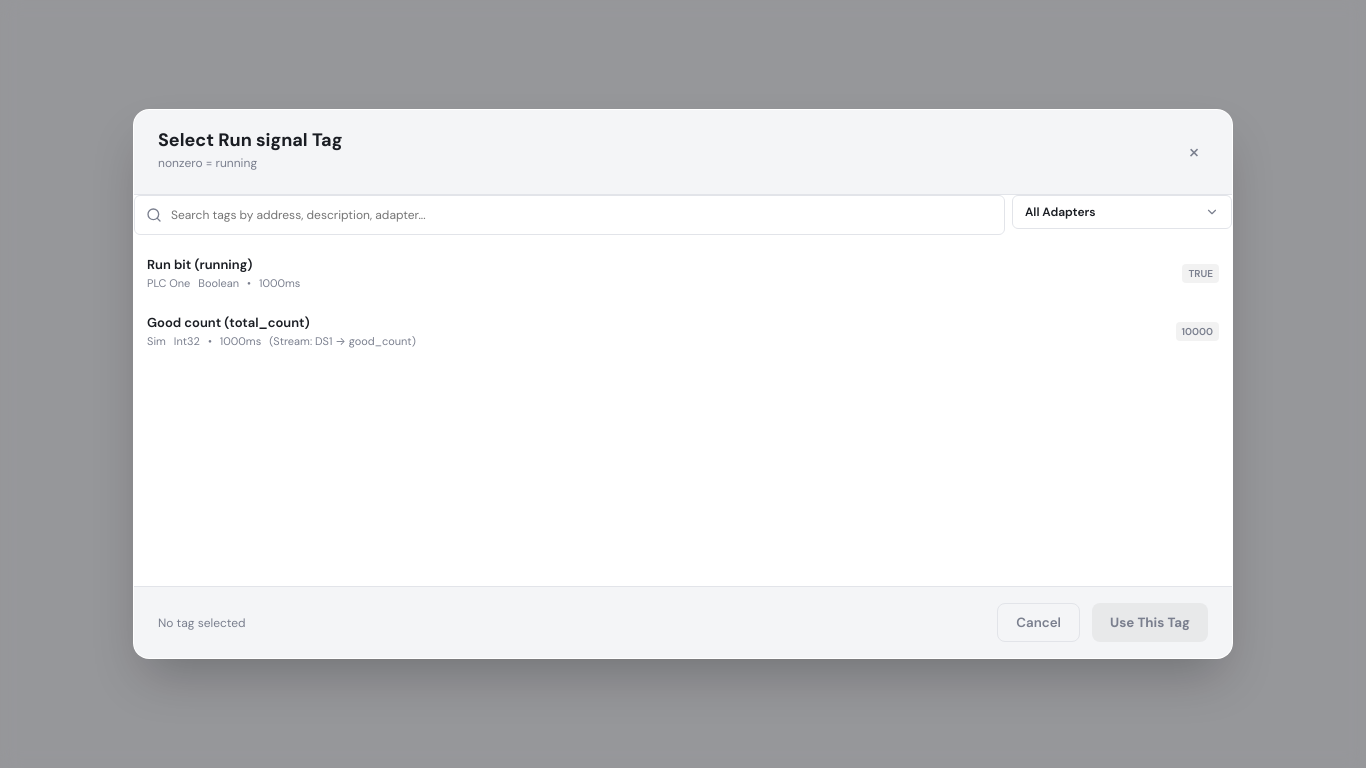
OeeTagBrowserModal › search narrows the list
Type "total" into the field with placeholder "Search tags by address, description, adapter...".
click(569, 215); type("total")  # box [134,195,1004,235]
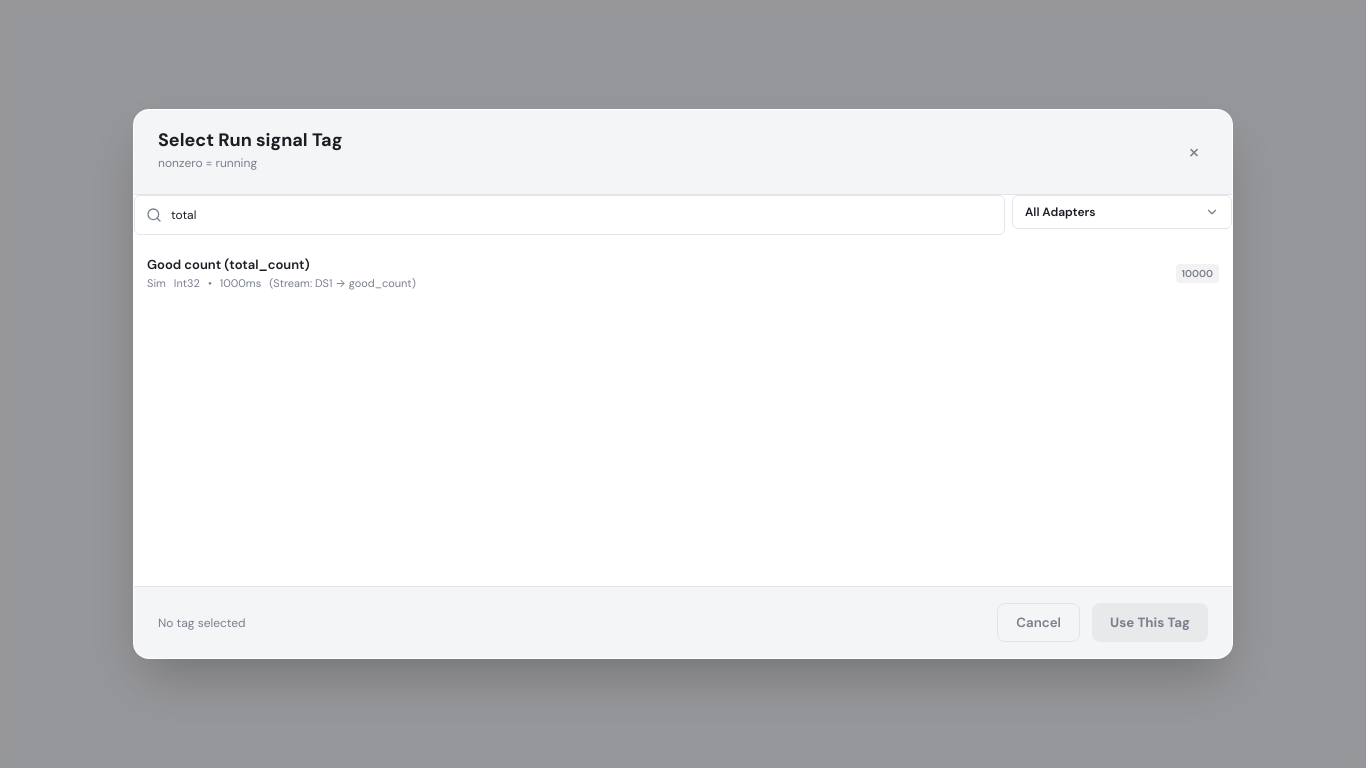
Expected: the text "Good count (total_count)" is shown, [147,256,310,273]
Now the text "Run bit (running)" is gone
